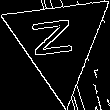N_E: (33, 18, 85, 65)
